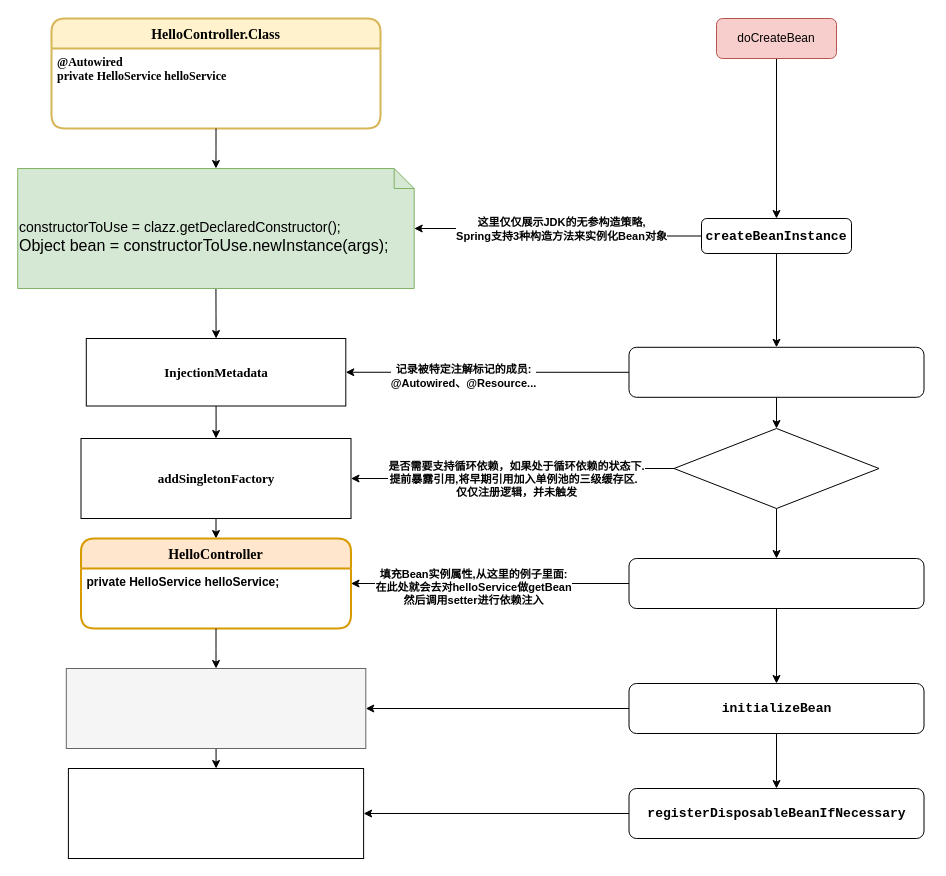
This 946x876 diagram has some shape labels left out. Here are the shapes that lost their labels. From the top down, the centre of each, then its label:
pixel 776 371: applyMergedBeanDefinitionPostProcessors
pixel 776 468: earlySingletonExposure
pixel 776 583: populateBean
pixel 215 708: @PostConstruct. InitializingBean#afterPropertiesSet. initMethod.
pixel 215 813: 注册销毁逻辑
